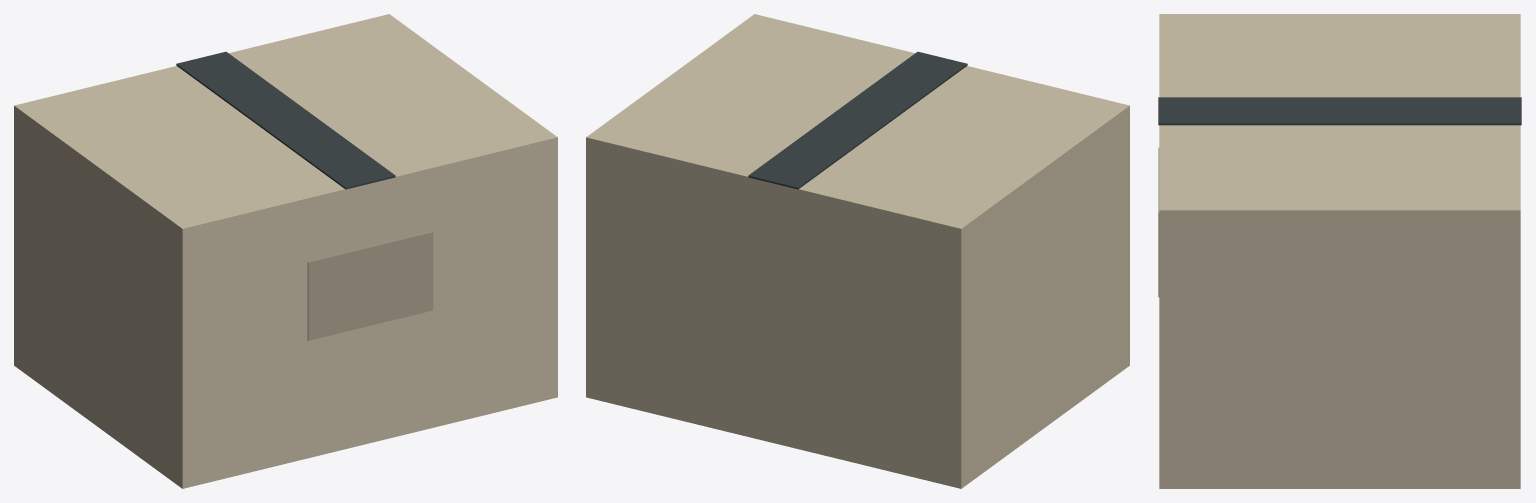
File: cardboard-box.glb
3 views of the same model, side by side, from view 1: azimuth 30°, elevation 25°; view 2: azimuth 150°, elevation 25°; view 3: azimuth 270°, elevation 25° (orthographic). The views are drawn at different scales.
Visible parts, largest first — view 1: paper, plastic-light, glass; view 2: paper, glass; view 3: paper, glass.
Boxes of the visible parts, bbox=[...] form: paper: bbox=[14, 14, 557, 488]; plastic-light: bbox=[307, 231, 433, 340]; glass: bbox=[176, 51, 395, 189]; paper: bbox=[586, 14, 1129, 488]; glass: bbox=[748, 51, 967, 189]; paper: bbox=[1159, 14, 1520, 488]; glass: bbox=[1158, 97, 1521, 125].
Bounding box in the file's own units: 0.45 × 0.3 × 0.352.
